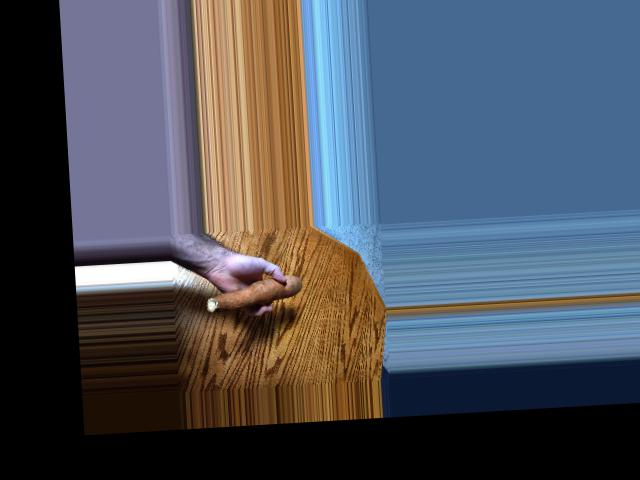sweet_potato: (197, 278, 307, 315)
